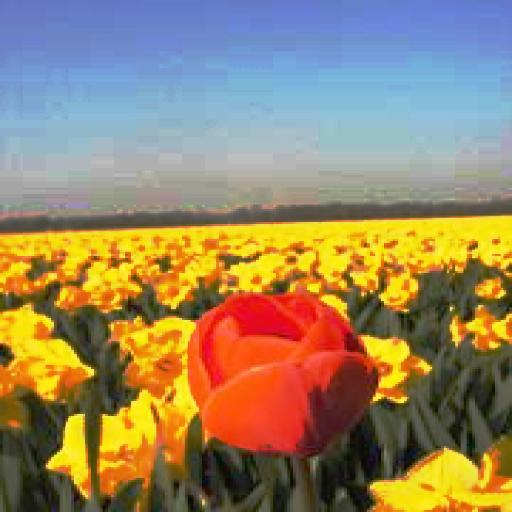tulip: (188, 292, 375, 461)
